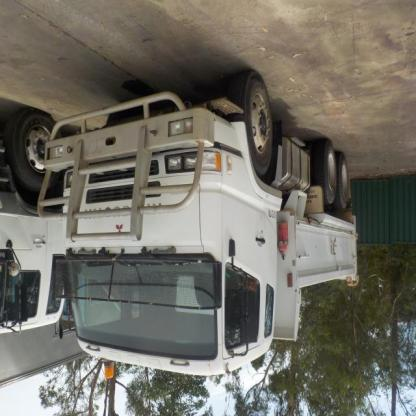truck: (37, 72, 360, 382)
